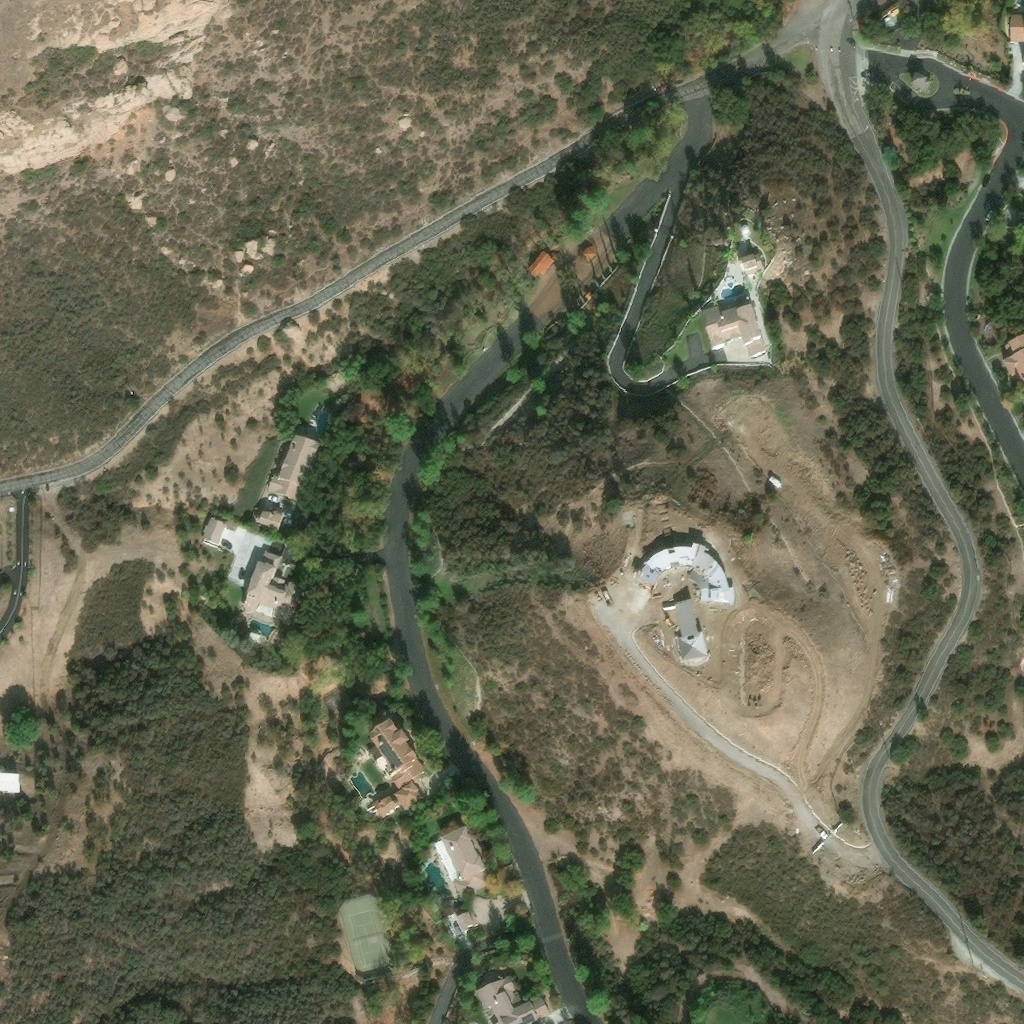0 no-damage: (633, 545, 734, 608), (239, 550, 299, 628), (367, 719, 427, 791), (699, 305, 768, 361), (474, 975, 553, 1023), (266, 437, 321, 505), (432, 826, 488, 889), (672, 601, 713, 668), (1000, 337, 1023, 387), (392, 784, 423, 813), (527, 251, 555, 283), (201, 518, 226, 550), (371, 795, 400, 821), (253, 512, 286, 533), (878, 13, 905, 35), (456, 912, 478, 937), (739, 256, 760, 280), (908, 73, 932, 94), (0, 773, 22, 795), (1009, 16, 1023, 46), (579, 246, 598, 265), (738, 227, 751, 240)
